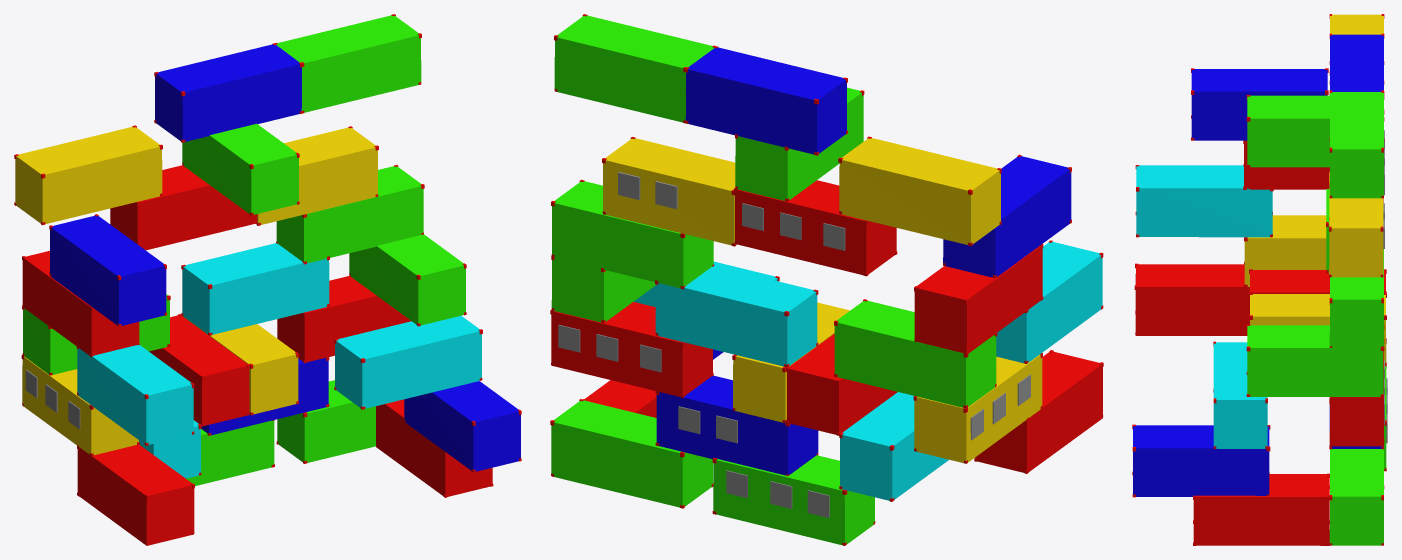
File: ParentPart05FBX.FBX
3 views of the same model, side by side, from view 1: azimuth 30°, elevation 25°; view 2: azimuth 150°, elevation 25°; view 3: azimuth 270°, elevation 25° (orthographic). The views are drawn at different scales.
Visible parts, largest first — view 1: ParentPart5; view 2: ParentPart5; view 3: ParentPart5.
Part boxes in pixels (x1,y1,x2,y2): ParentPart5: (14,14,521,545); ParentPart5: (550,14,1103,545); ParentPart5: (1132,14,1387,545).
Bounding box in the file's own units: 6.57 × 3.84 × 6.58.
